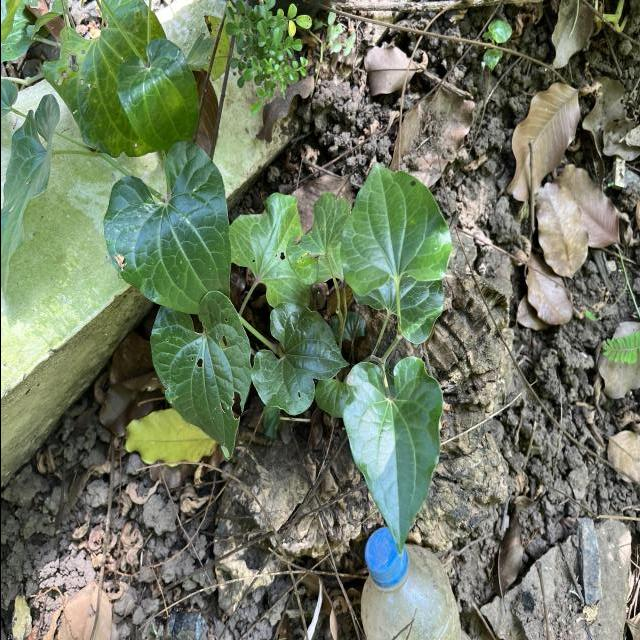Piper longum: (100, 138, 234, 316), (338, 354, 446, 559)
